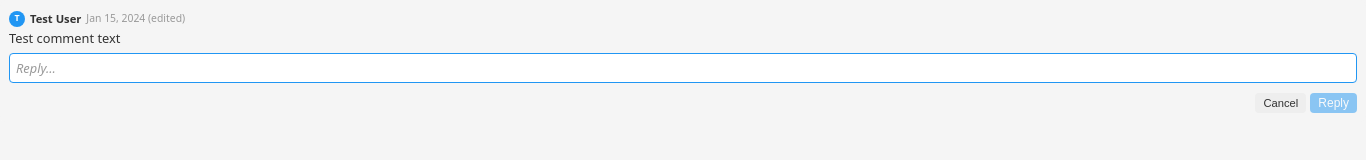
Test: CommentThread › reply functionality › enables submit button when reply text is provided
Earlier steps of the test are not shown.
Type "Some text" into the text box with placeholder "Reply..." at x=683, y=68, box 9,53 -> 1357,83
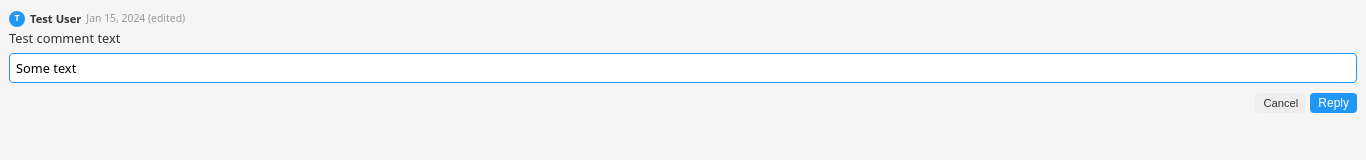
Check: the button "Reply" is enabled, box 1310,93 -> 1357,113
